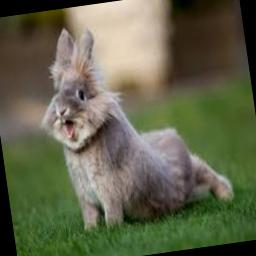rabbit: (41, 27, 232, 227)
